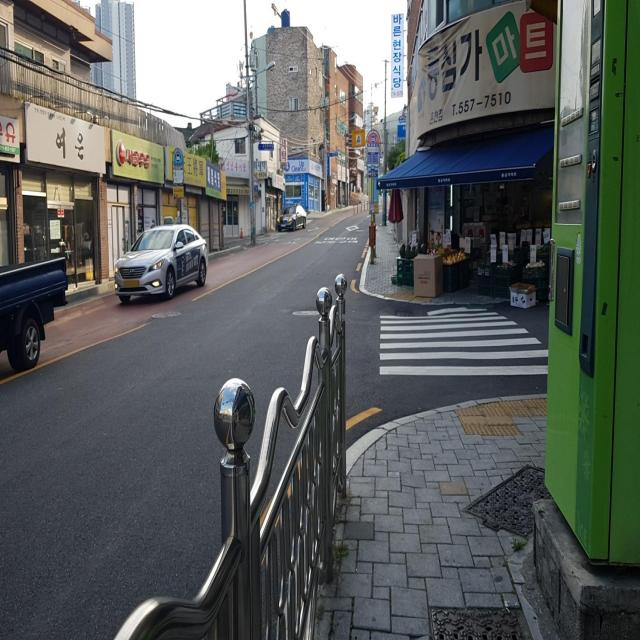횡단보도: (378, 304, 550, 377)
